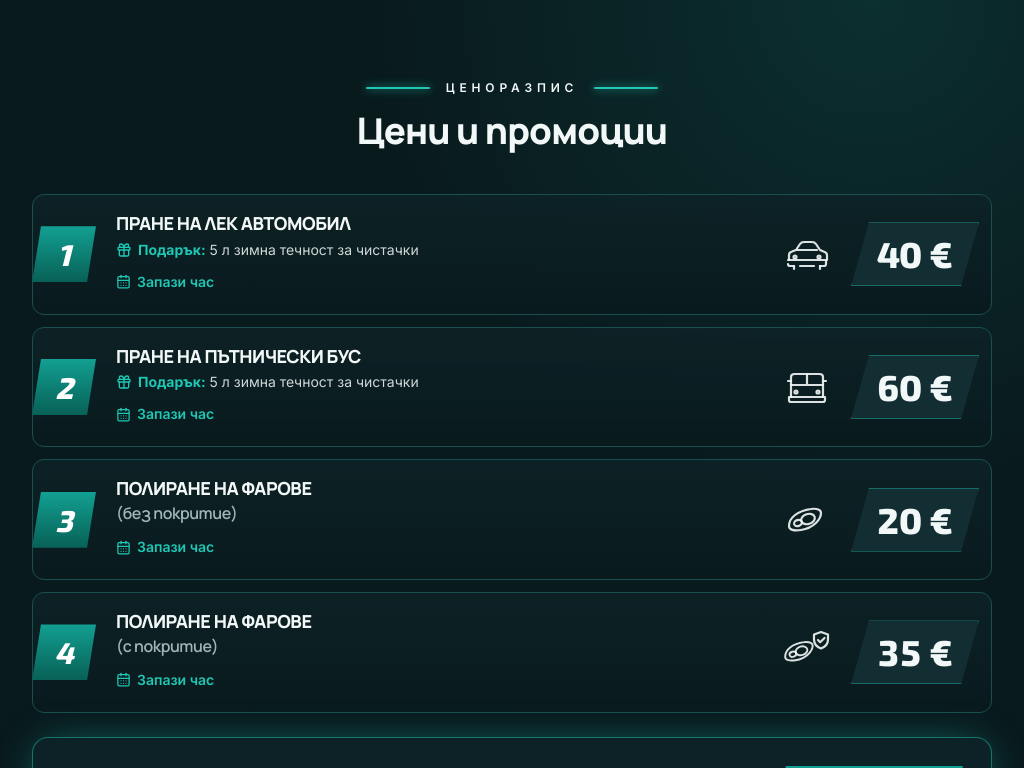
Test case: PricingSection › opens the booking form with the service and the chosen line in the message
Click the button "Запази час" below "Пране на пътнически бус".
click(165, 414)  # box x1=116 y1=398 x2=214 y2=430
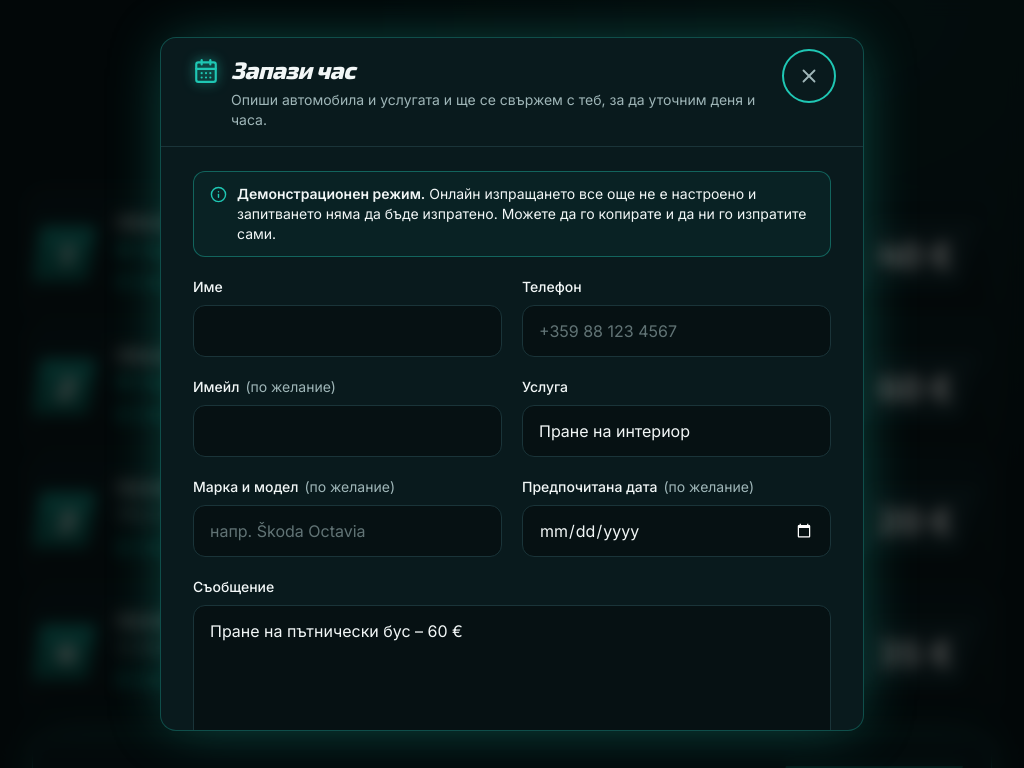
Expected: the dropdown labelled "Услуга" shows "Пране на интериор", x1=522 y1=405 x2=831 y2=457
